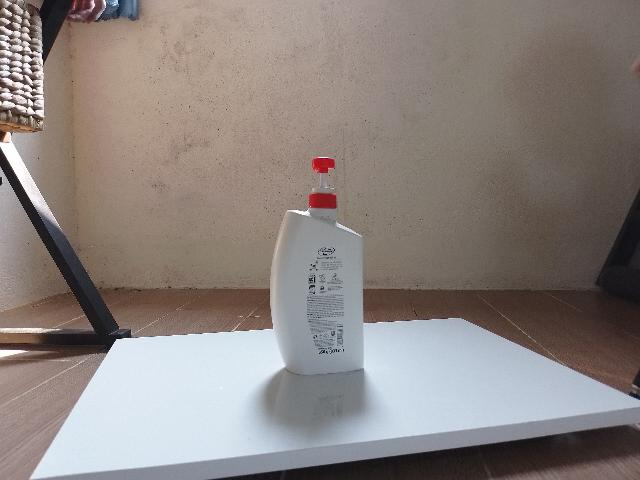life-buoy: (270, 158, 364, 376)
